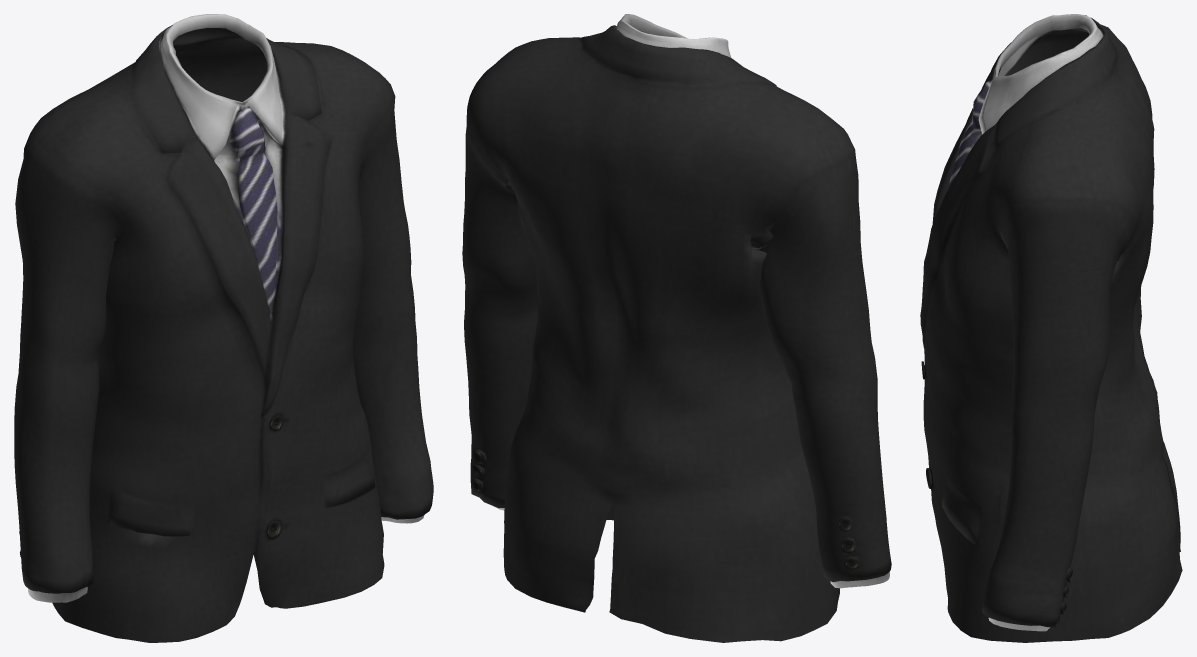
Rendered from outer_suit_blazer.gltf.
3 renders of one model, left to right at view 1: azimuth 30°, elevation 25°; view 2: azimuth 150°, elevation 25°; view 3: azimuth 270°, elevation 25°, orthographic. The views are drawn at different scales.
Parts seen in each view (by area): view 1: outer_suit_blazer; view 2: outer_suit_blazer; view 3: outer_suit_blazer.
Part boxes in pixels (x1=…): outer_suit_blazer: x1=14, y1=14, x2=433, y2=642; outer_suit_blazer: x1=462, y1=14, x2=891, y2=642; outer_suit_blazer: x1=920, y1=14, x2=1182, y2=642.
Size of the model in its own units: 0.5147 by 0.6813 by 0.2933.
1 material, 1 textured.
